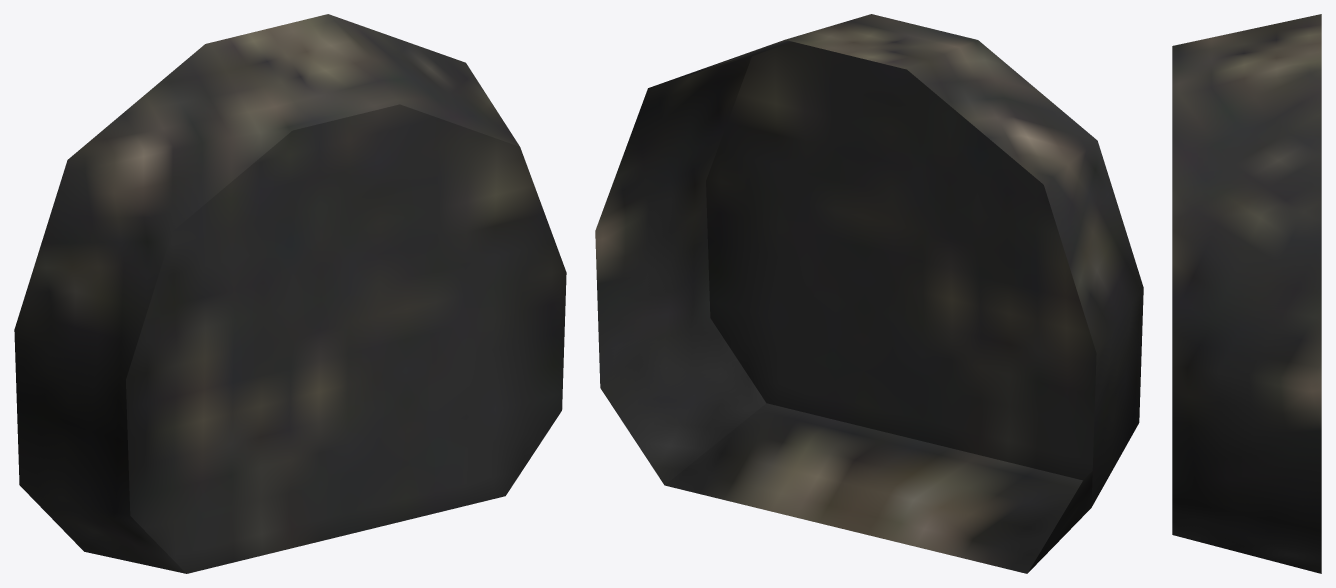
File: Plug_01.FBX
The picture shows the model from 3 angles, left to right: view 1: azimuth 30°, elevation 25°; view 2: azimuth 150°, elevation 25°; view 3: azimuth 270°, elevation 25°; orthographic projection. The views are drawn at different scales.
Visible parts, largest first — view 1: Plug_01; view 2: Plug_01; view 3: Plug_01.
Boxes of the visible parts, x1,y1,x2,y2 form: Plug_01: (14, 14, 566, 573); Plug_01: (595, 14, 1143, 573); Plug_01: (1172, 14, 1321, 573).
Bounding box in the file's own units: 6.84 × 6.19 × 1.87.
